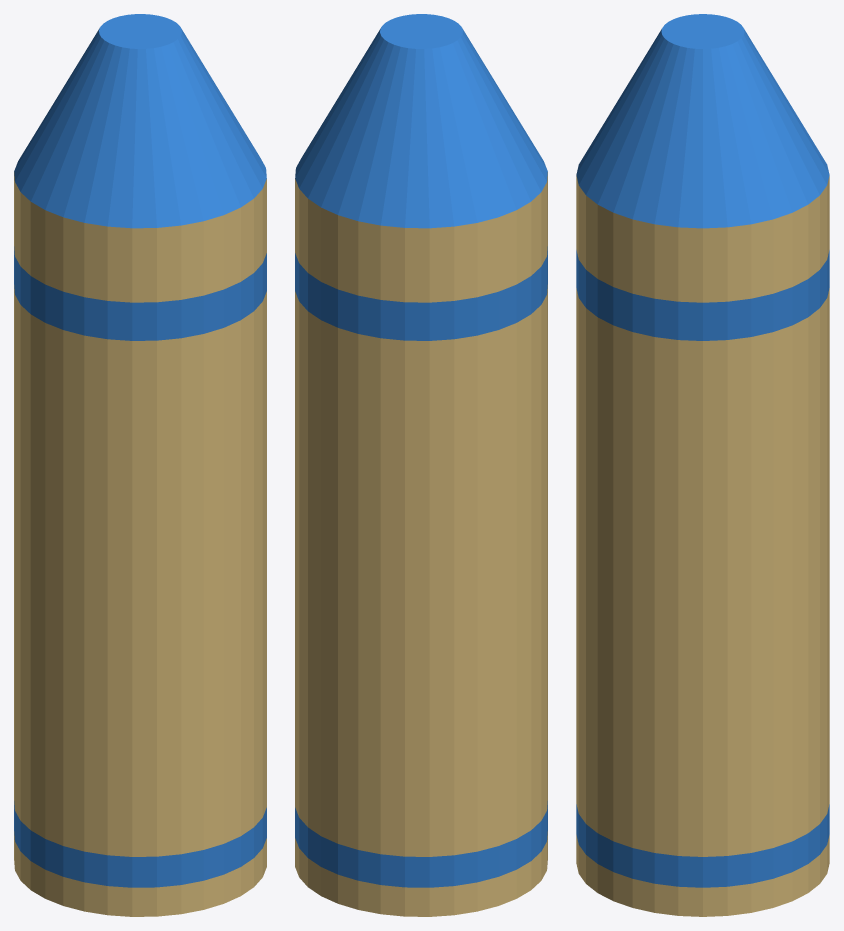
The model's file is crayon blue.fbx.
3 views of the same model, side by side, from view 1: azimuth 30°, elevation 25°; view 2: azimuth 150°, elevation 25°; view 3: azimuth 270°, elevation 25° (orthographic).
Parts seen in each view (by area): view 1: Cylinder; view 2: Cylinder; view 3: Cylinder.
Part boxes in pixels (x1,y1,x2,y2): Cylinder: (14,14,266,916); Cylinder: (295,14,547,916); Cylinder: (576,14,829,916).
Bounding box in the file's own units: 20 × 72.49 × 20.
